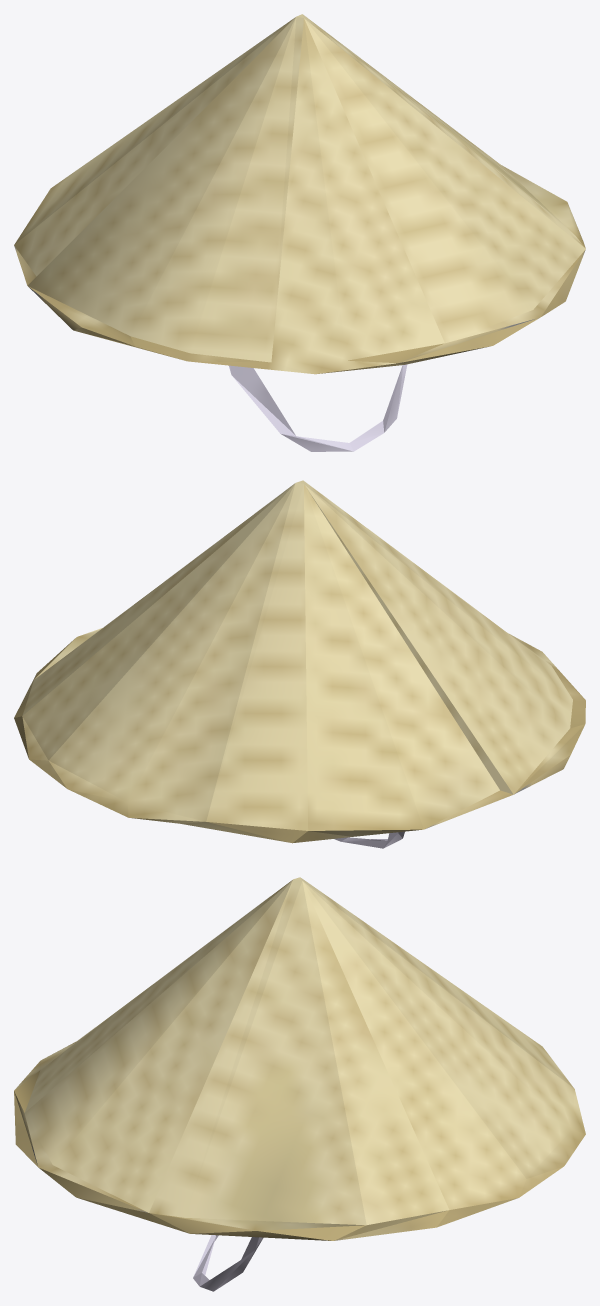
Rendered from non_la_edits.far.glb.
The picture shows the model from 3 angles, top to bottom: view 1: azimuth 30°, elevation 25°; view 2: azimuth 150°, elevation 25°; view 3: azimuth 270°, elevation 25°; orthographic projection.
Visible parts, largest first — view 1: non_la_edits; view 2: non_la_edits; view 3: non_la_edits.
Part boxes in pixels (<box>): non_la_edits: <box>14,14,585,451</box>; non_la_edits: <box>14,480,585,848</box>; non_la_edits: <box>14,877,585,1291</box>.
Size of the model in its own units: 0.4081 by 0.3137 by 0.4075.
1 material, 1 textured.
